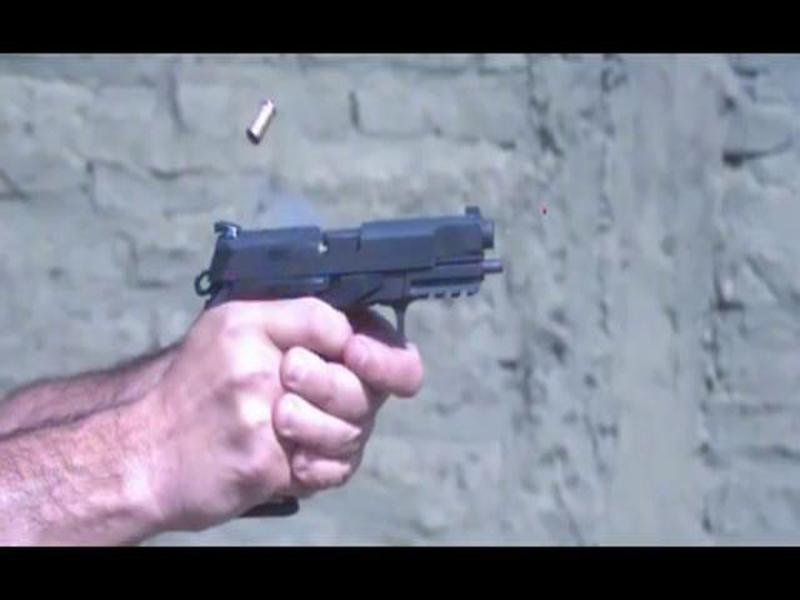Pistola: (172, 184, 523, 337)
